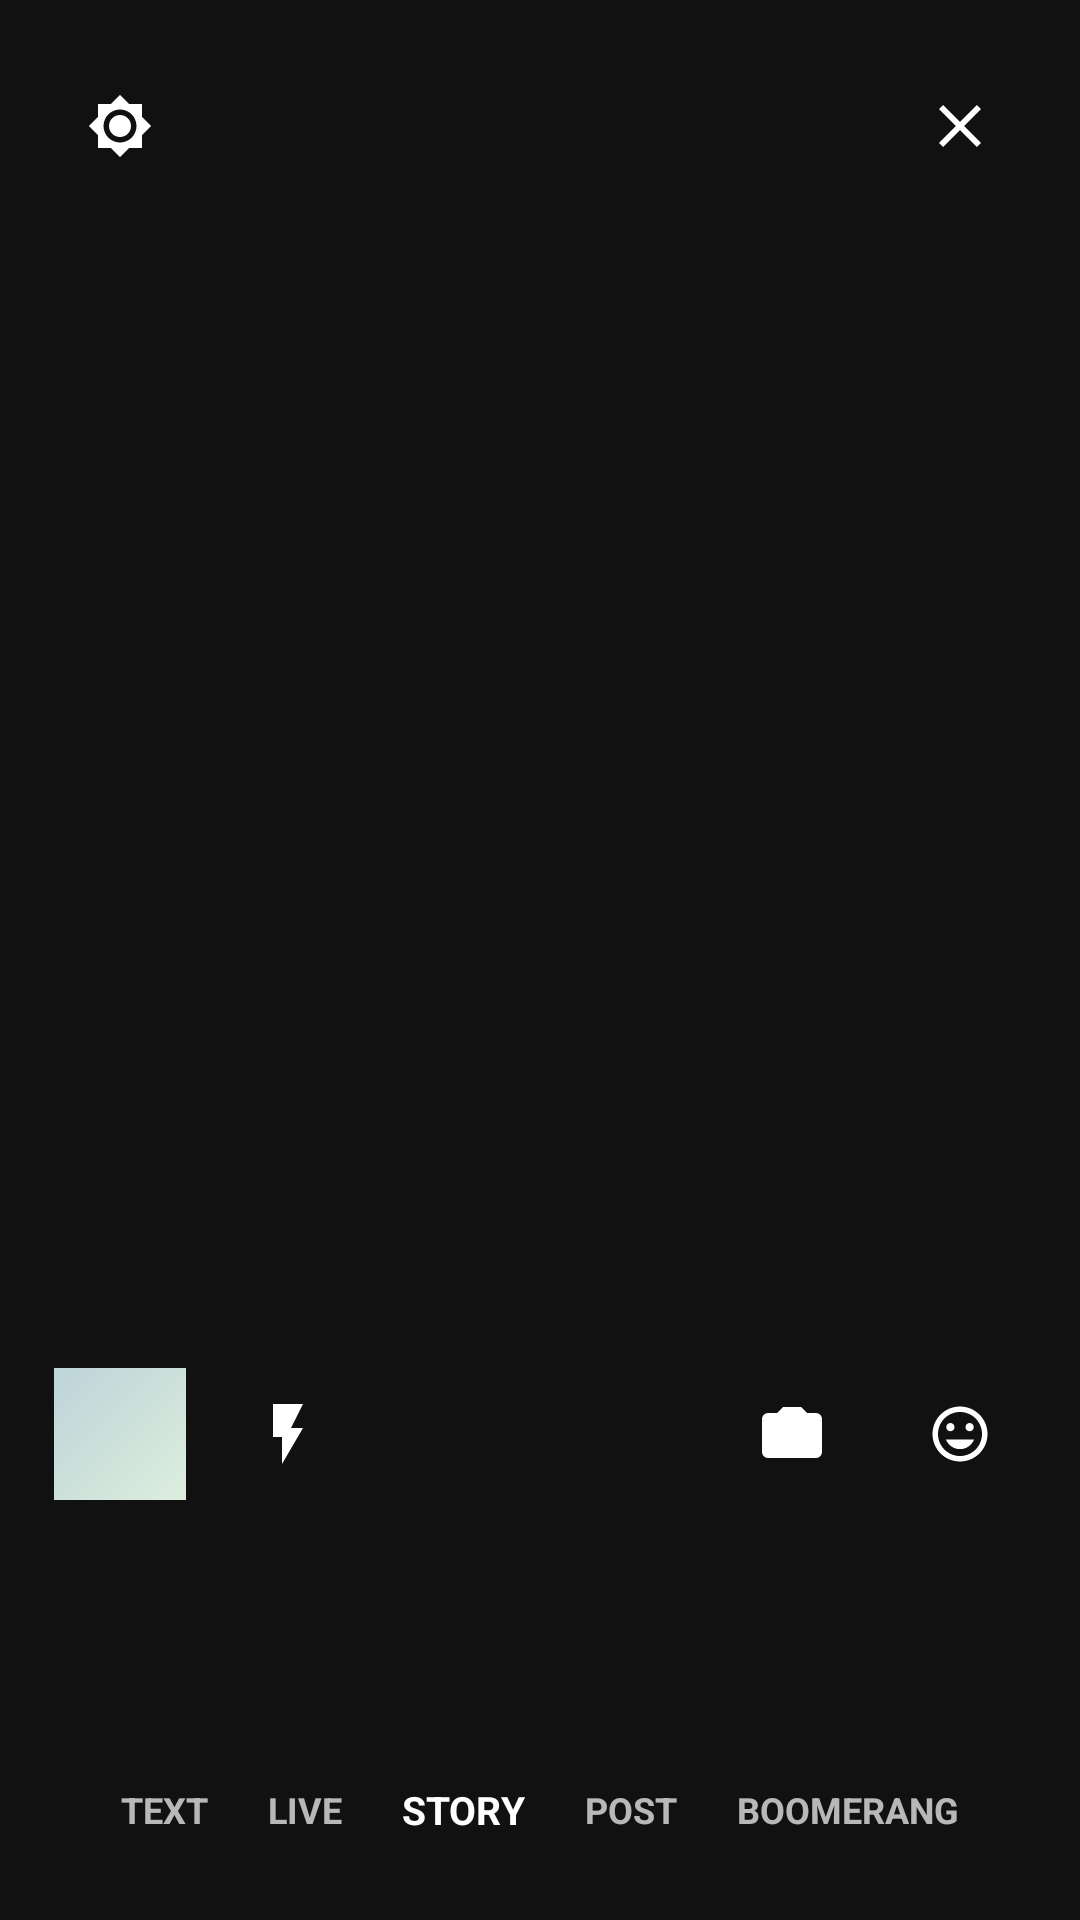

Locate icon controls on the screen. Image size 1080px×1920px, boxes as (x1, y1, x2, y2).
brightness: (89, 95, 151, 157)
close: (939, 105, 981, 147)
flash: (273, 1404, 303, 1464)
mood: (932, 1406, 988, 1462)
